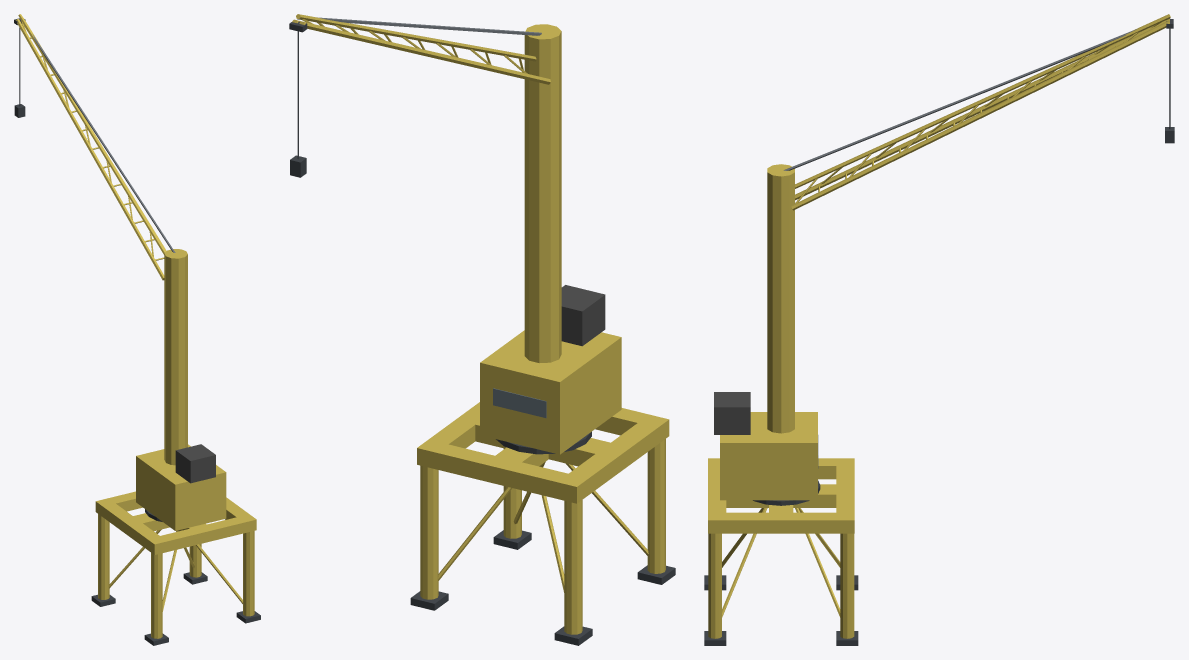
The model's file is luffing_crane.glb.
The picture shows the model from 3 angles, left to right: view 1: azimuth 30°, elevation 25°; view 2: azimuth 150°, elevation 25°; view 3: azimuth 270°, elevation 25°; orthographic projection. The views are drawn at different scales.
Visible parts, largest first — view 1: LOD0; view 2: LOD0; view 3: LOD0.
Boxes of the visible parts, x1,y1,x2,y2 form: LOD0: (14,14,260,645); LOD0: (289,14,675,645); LOD0: (704,14,1174,645).
Size of what is drawn, in the model's own units: 12.6 by 54.07 by 38.5.
